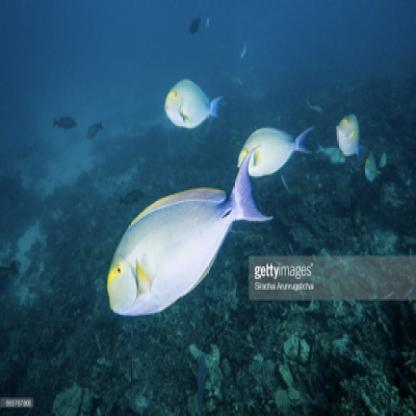surgeon: (103, 142, 272, 332), (234, 123, 317, 173), (157, 79, 227, 130), (335, 110, 366, 163), (363, 151, 385, 187)
